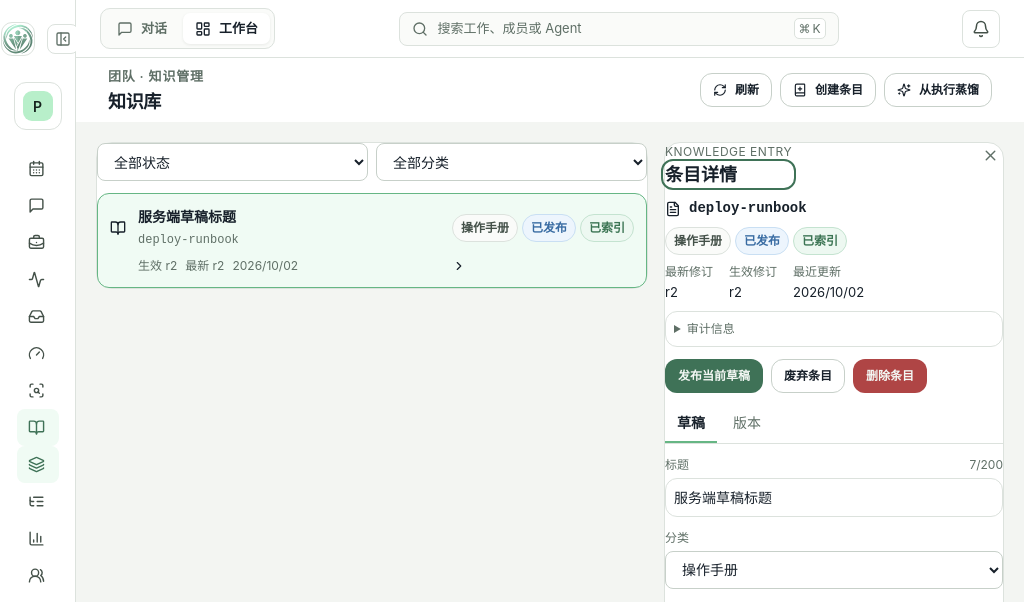
it: KnowledgeBasePage › walks the delete flow through the confirmed alertdialog into the tombstone
Click the button "删除条目" at x=890, y=376, box [853,359,927,393]
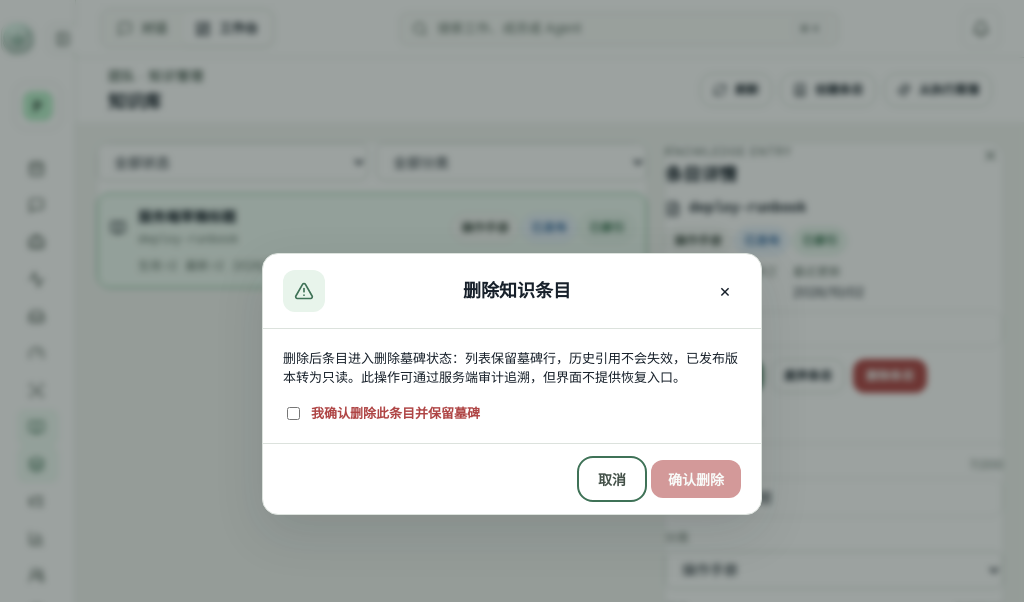
expect the dialog shows "删除墓碑": met, box [283,350,738,385]
expect the button "确认删除" is shown: met, box [651,460,741,498]
Click the checkbox labelled "我确认删除此条目并保留墓碑" at x=294, y=414, box [287,407,300,420]
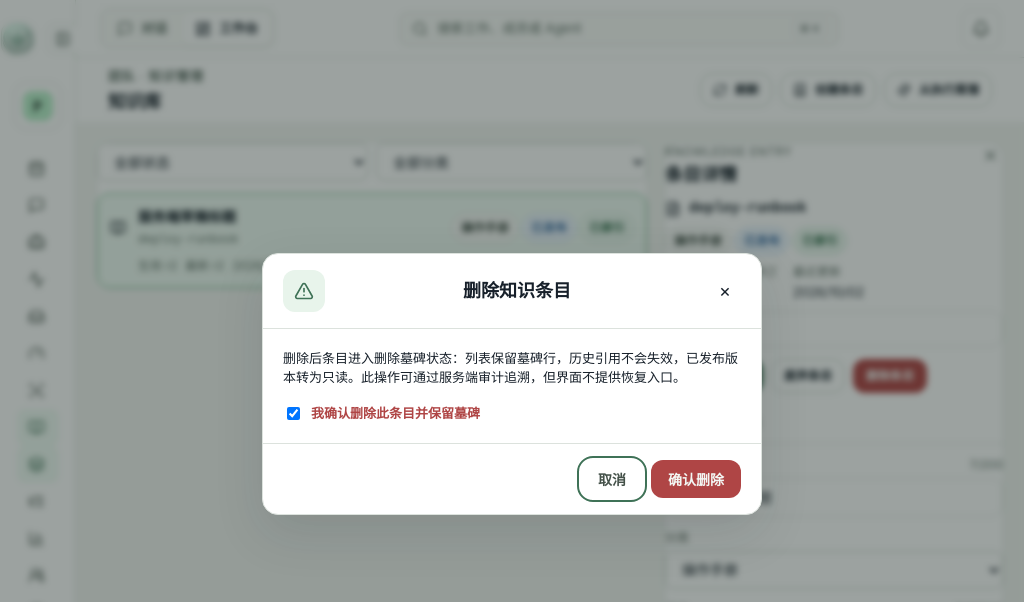
Click the button "确认删除" at x=696, y=479, box [651,460,741,498]
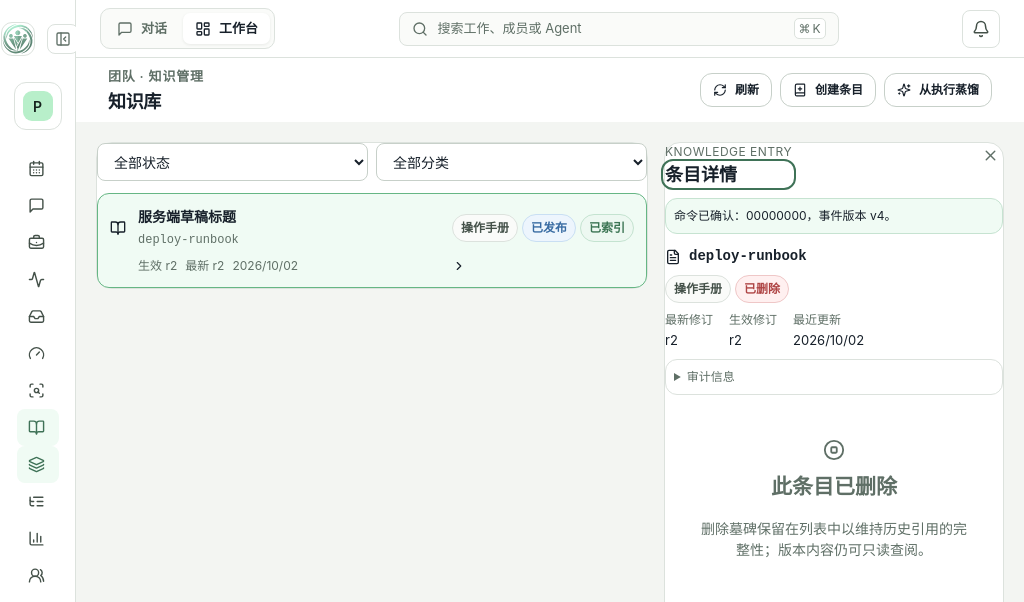
expect the text "此条目已删除" is shown: met, box [771,474,897,499]
